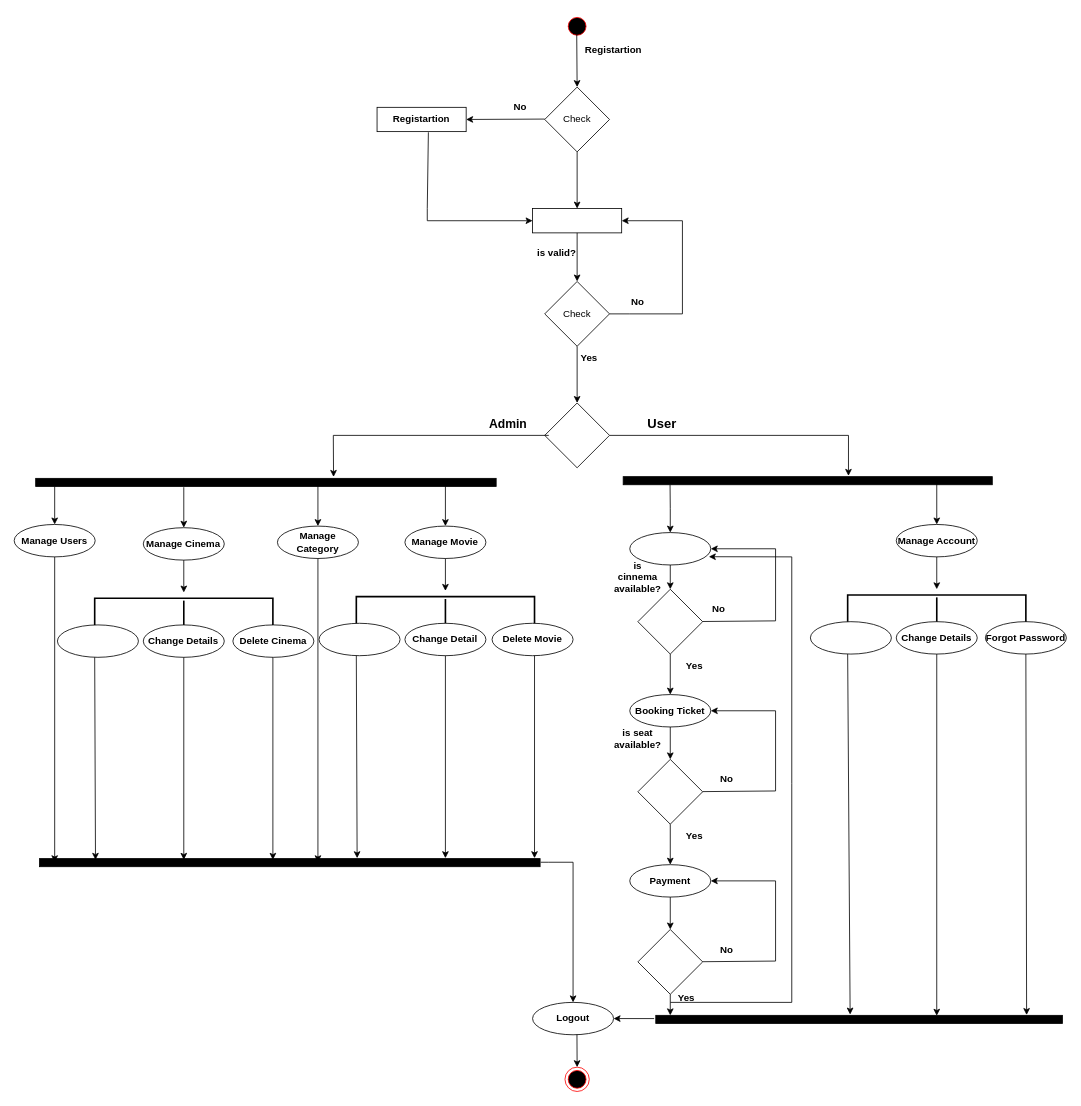
Some shapes in this 1081 by 1106 pixel diagram are drawn without their labels. The shapes that lost their labels are listed below. From the top down, each one's centre as x and y in pixels, then its label:
point (577, 220): Login
point (577, 435): User Type
point (670, 548): View cinema
point (97, 640): Add Cinema
point (359, 639): Add Movie
point (850, 637): Change Password
